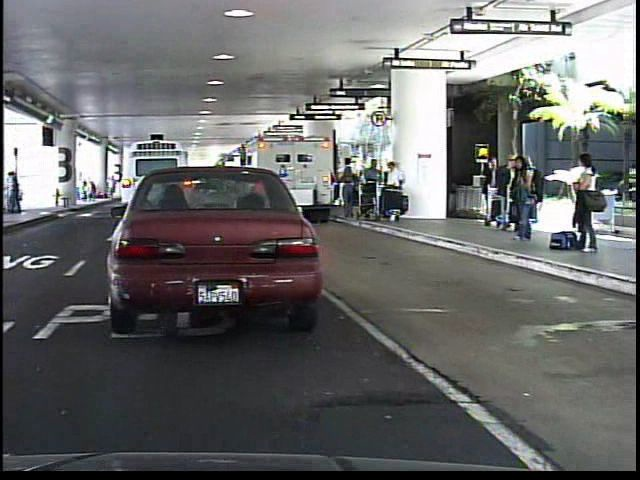person: (569, 148, 599, 258)
